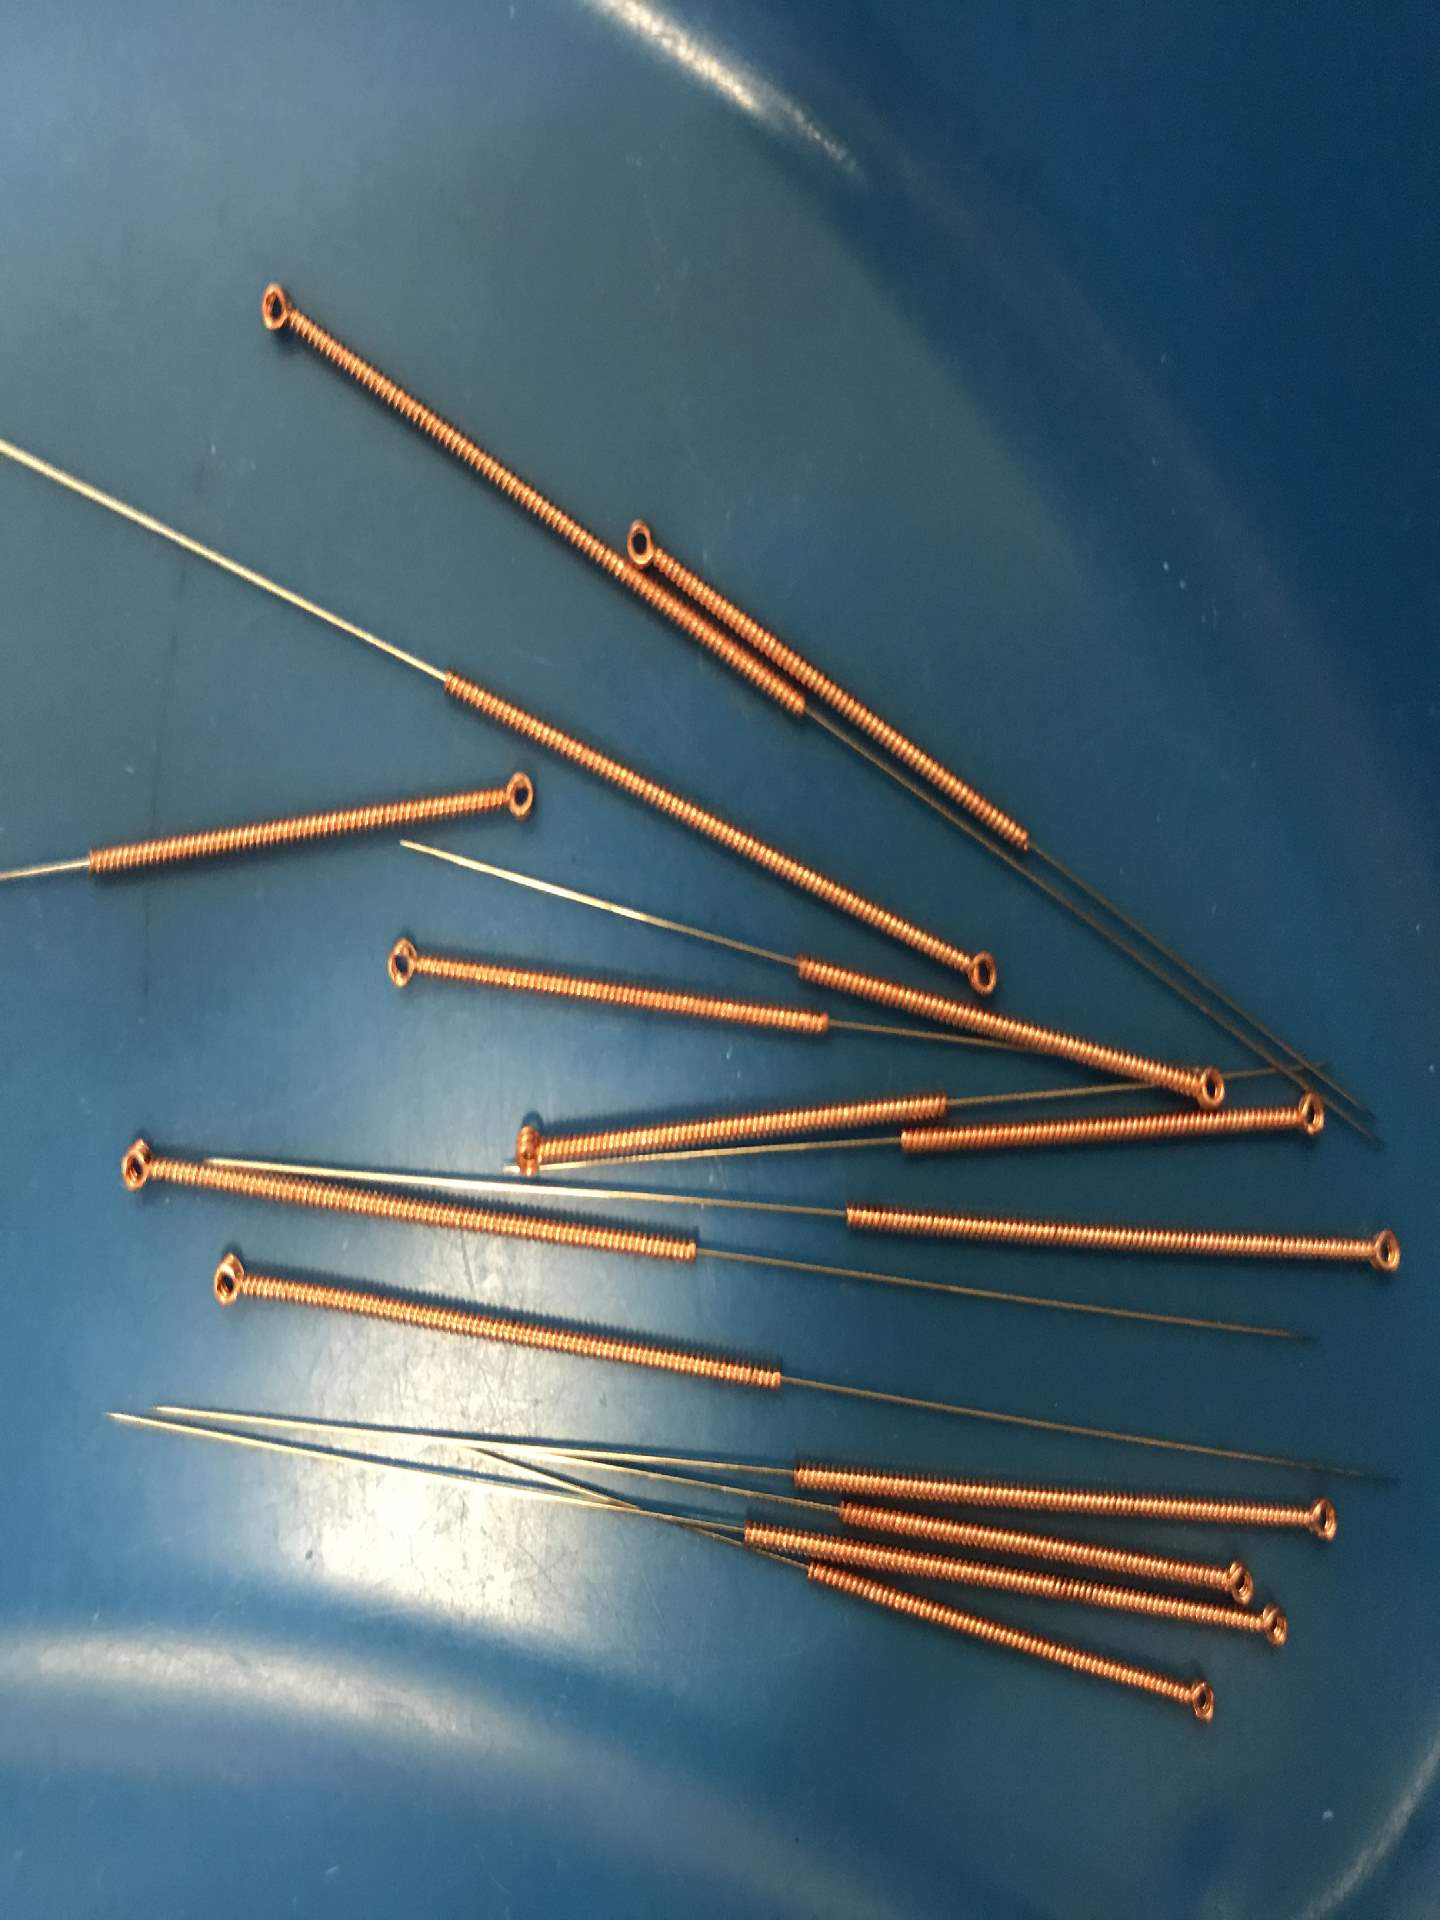needle: (241, 268, 321, 355), (470, 757, 554, 836), (368, 919, 442, 1004), (101, 1125, 175, 1209), (941, 931, 1018, 1004), (192, 1243, 263, 1321), (495, 1107, 566, 1185), (1286, 1485, 1358, 1554), (1349, 1217, 1417, 1287), (1274, 1082, 1340, 1147), (625, 503, 684, 576), (1171, 1055, 1237, 1114), (1171, 1671, 1227, 1734), (1207, 1551, 1258, 1610), (1249, 1598, 1296, 1655)
